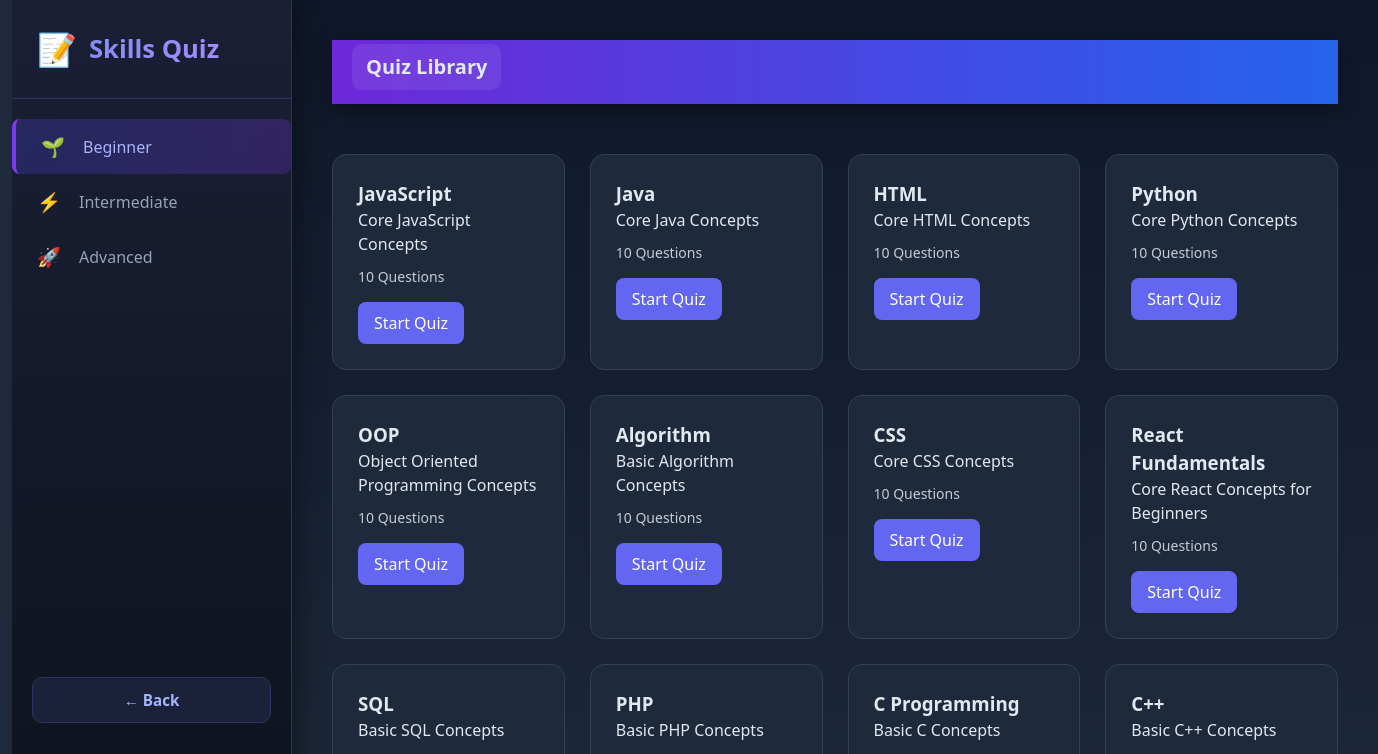
Test case: Quiz › starts a beginner quiz and advances after answering a question
Expected: the button "← Back" is shown, [32, 677, 271, 723]
Expected: the heading "JavaScript" is shown, [358, 181, 452, 206]
What coordinates should you click on to do the following:
click the button "Start Quiz" below "Core JavaScript Concepts"
I would click on:
 (411, 323)
Its box is [358, 302, 464, 344].
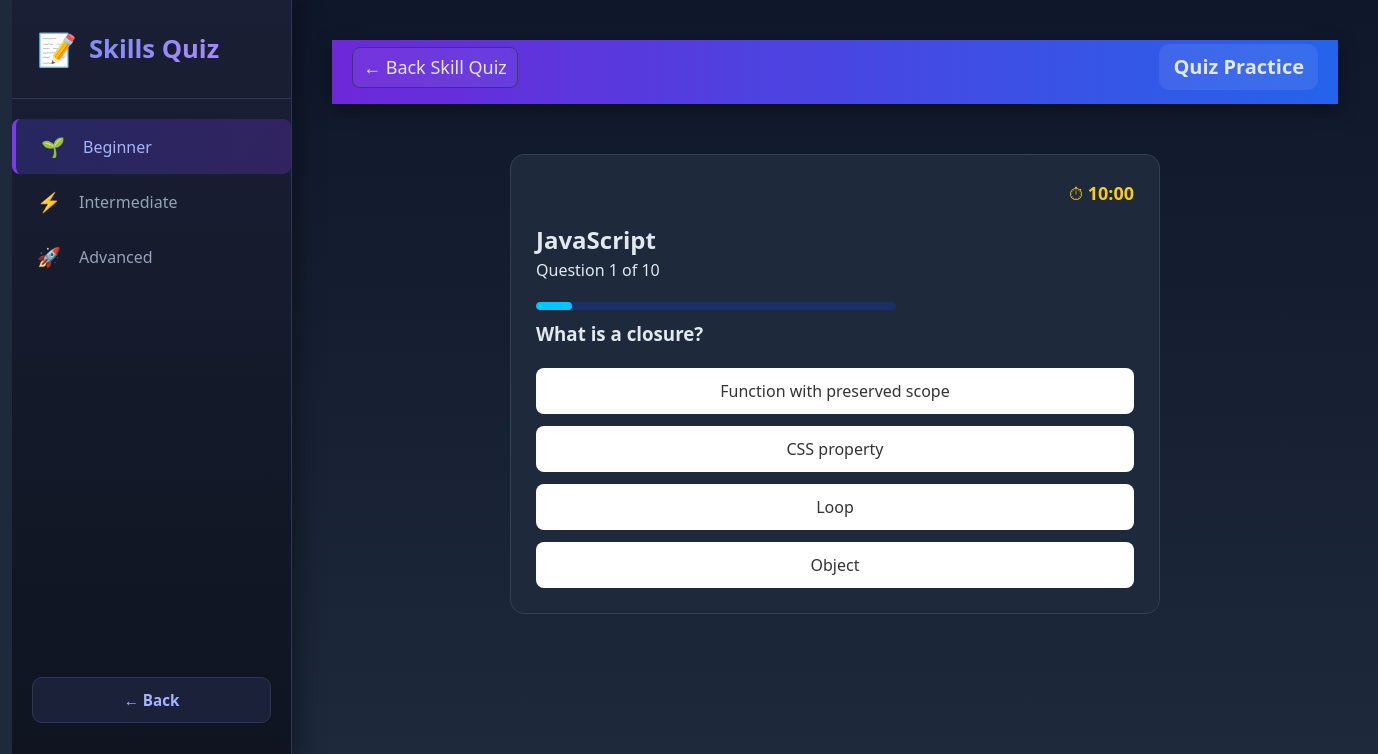
Now the text "Question 1 of 10" is shown, box [536, 259, 660, 281]
Now the heading "What is a closure?" is shown, box [536, 321, 703, 346]
Now the text "⏱ 10:00" is shown, box [1069, 181, 1134, 205]
What coordinates should you click on to do the following:
click the button "Function with preserved scope"
I would click on:
 (835, 391)
Its box is [536, 368, 1134, 414].
Wait 800 ms
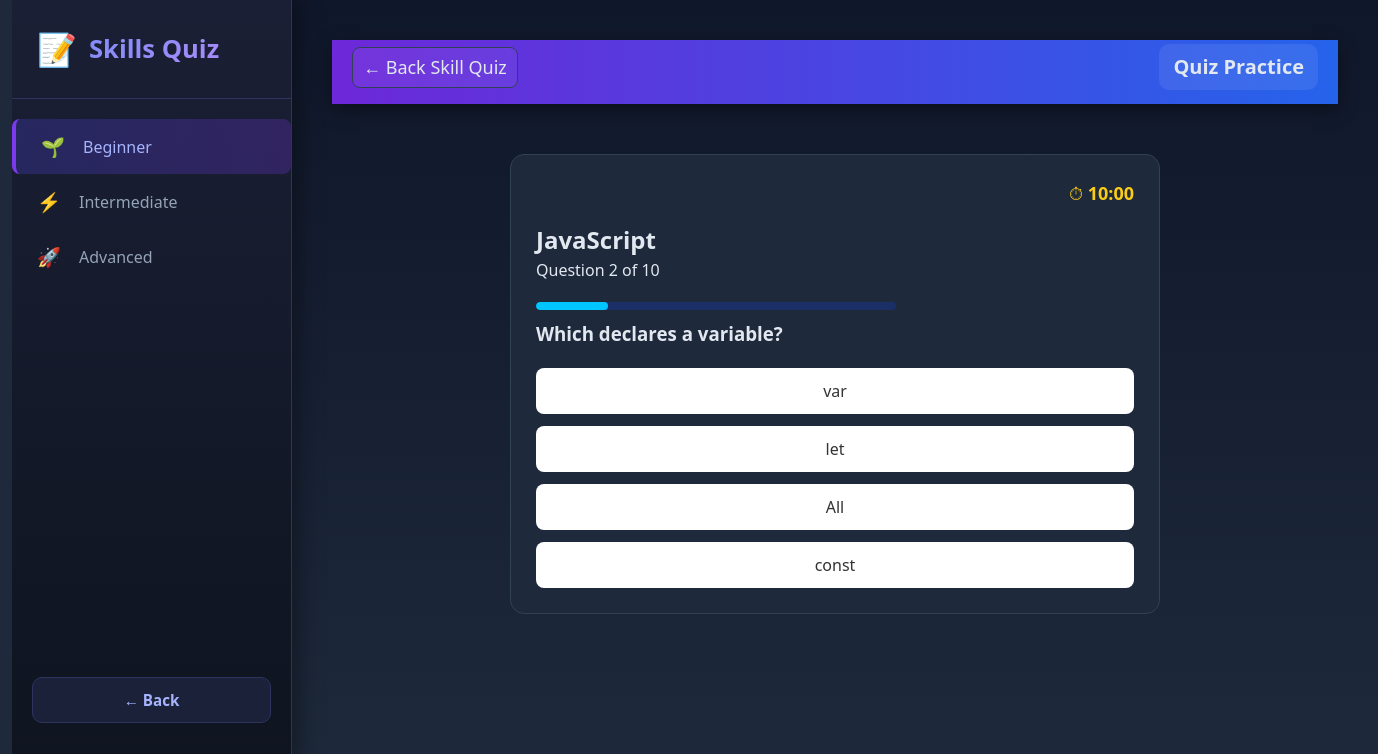
Now the text "Question 2 of 10" is shown, box [536, 259, 660, 281]
Now the heading "Which declares a variable?" is shown, box [536, 321, 783, 346]
